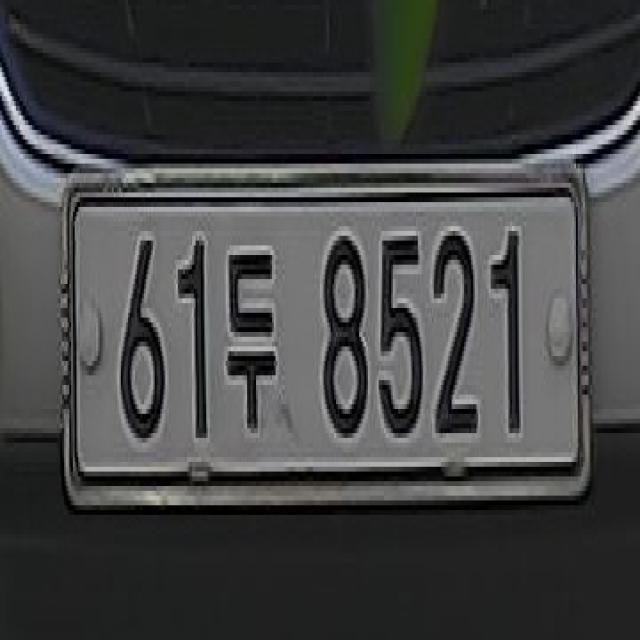plat: (57, 159, 593, 511)
